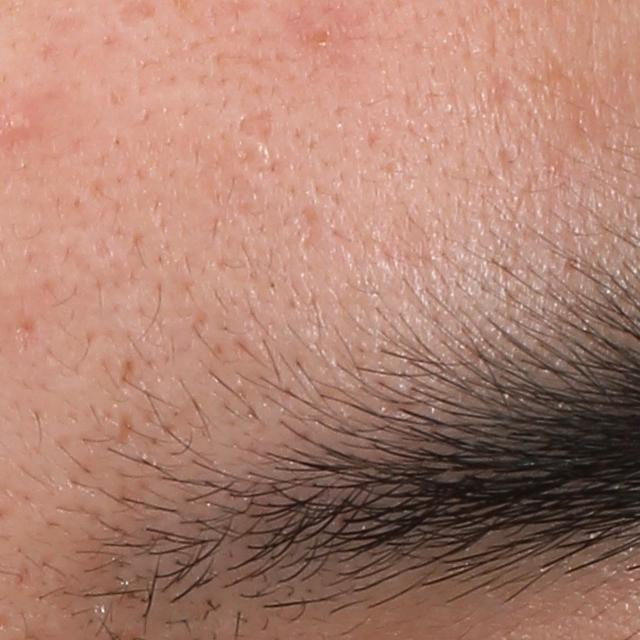atrophic_scar: (236, 106, 274, 144), (112, 411, 132, 450)
